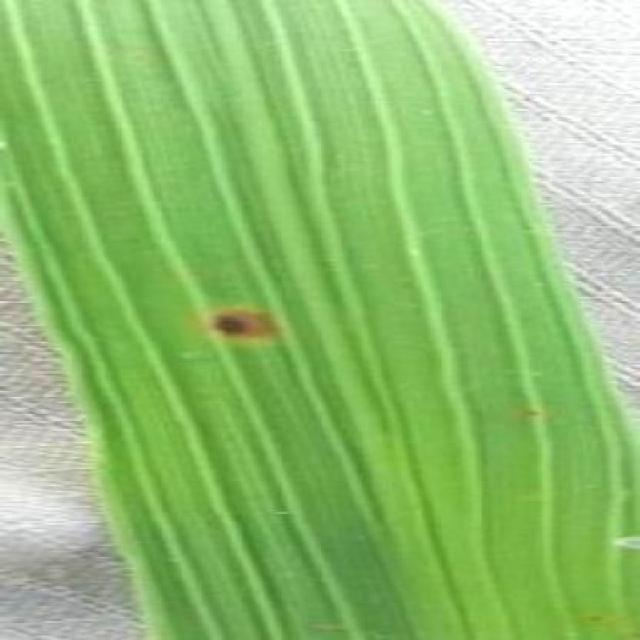Bacterial_Leaf_Blight: (601, 524, 640, 567)
Leaf_Blast: (195, 297, 293, 352), (295, 611, 353, 640), (573, 605, 615, 632), (519, 401, 546, 422)
